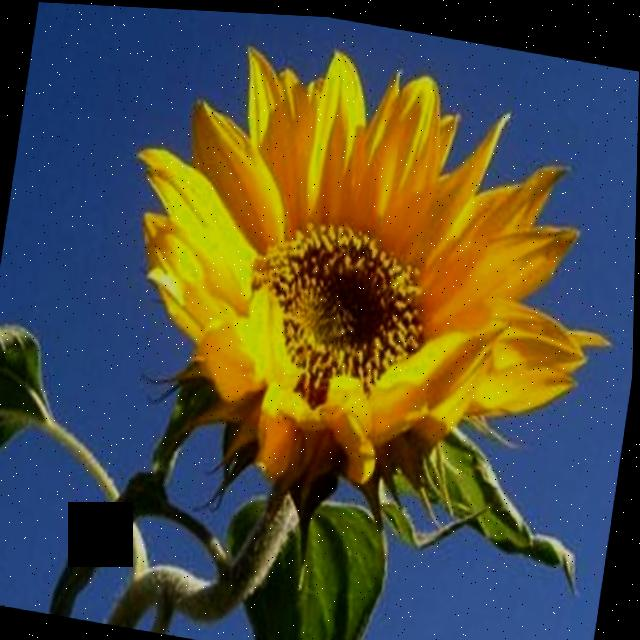sunflower: (38, 2, 618, 615)
